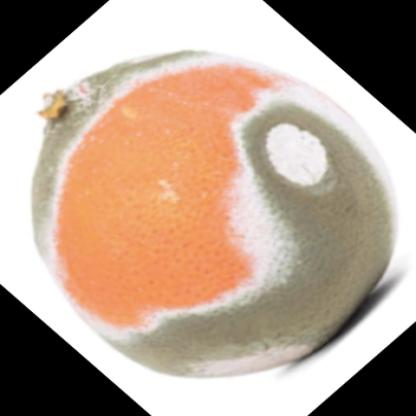rotten: (32, 50, 396, 380)
